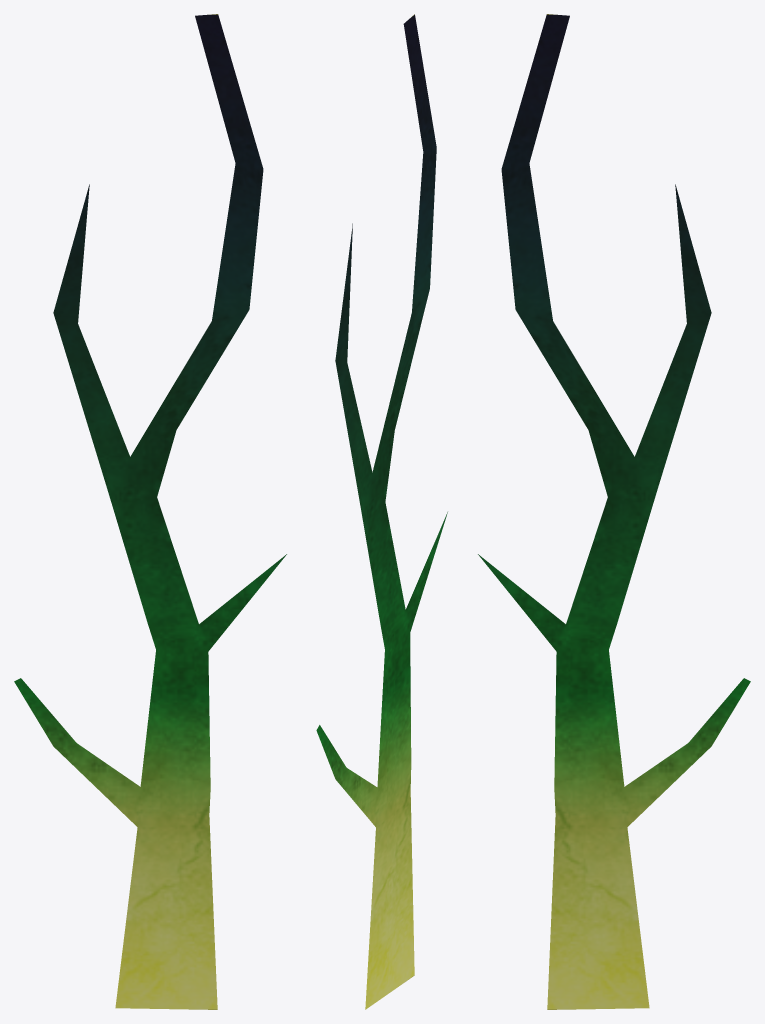
File: Tree002.fbx
The picture shows the model from 3 angles, left to right: view 1: azimuth 90°, elevation 25°; view 2: azimuth 150°, elevation 25°; view 3: azimuth 270°, elevation 25°; orthographic projection. The views are drawn at different scales.
Parts seen in each view (by area): view 1: polySurface3; view 2: polySurface3; view 3: polySurface3.
Boxes of the visible parts, x1,y1,x2,y2 form: polySurface3: (14, 14, 286, 1009); polySurface3: (316, 14, 447, 1009); polySurface3: (478, 14, 750, 1009).
Size of the model in its own units: 1.01e-13 by 1757 by 438.
